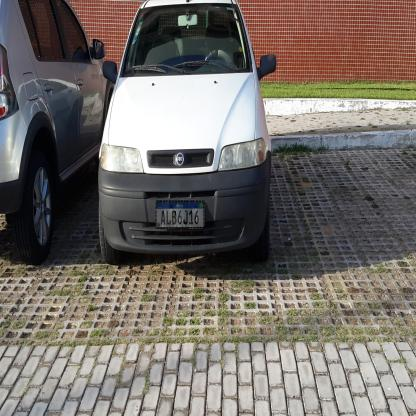PlacaM: (156, 200, 204, 229)
